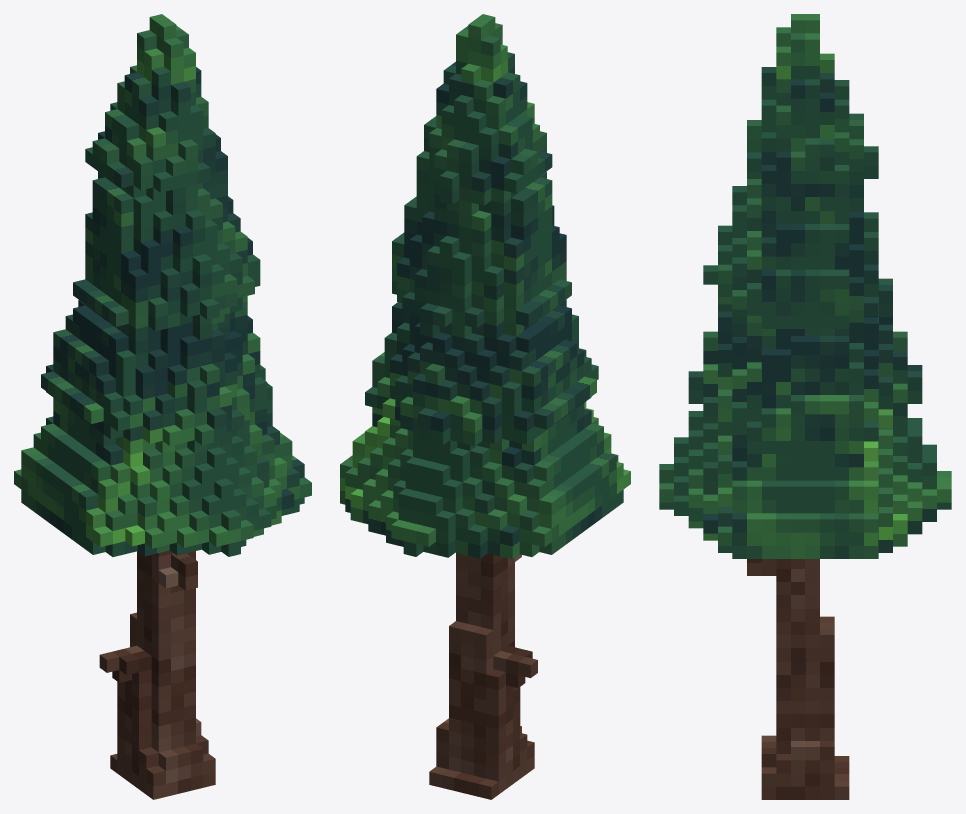
File: Conifer8.obj
The picture shows the model from 3 angles, left to right: view 1: azimuth 30°, elevation 25°; view 2: azimuth 150°, elevation 25°; view 3: azimuth 270°, elevation 25°; orthographic projection.
Visible parts, largest first — view 1: Conifer8; view 2: Conifer8; view 3: Conifer8.
Part boxes in pixels (x1,y1,x2,y2): Conifer8: (14, 14, 311, 799); Conifer8: (340, 14, 630, 799); Conifer8: (659, 14, 951, 799).
Bounding box in the file's own units: 1.7 × 5.8 × 2.
1 material, 1 textured.
